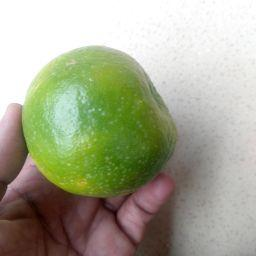Unripe: (21, 49, 173, 197)
